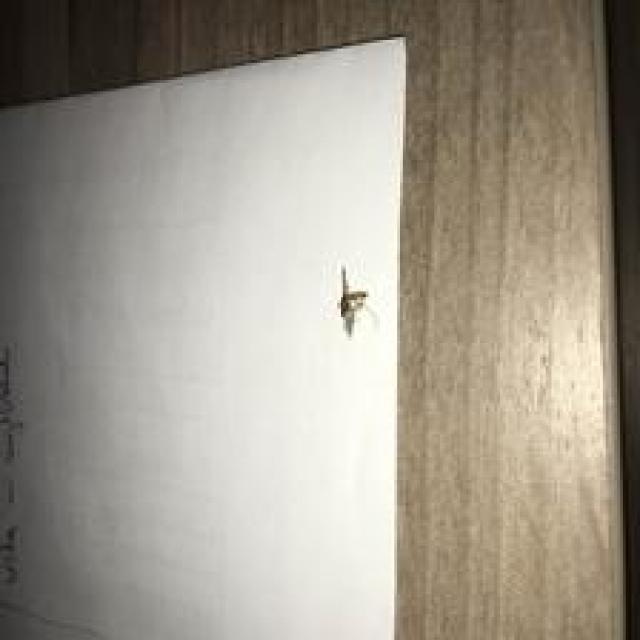Culex: (337, 263, 369, 337)
